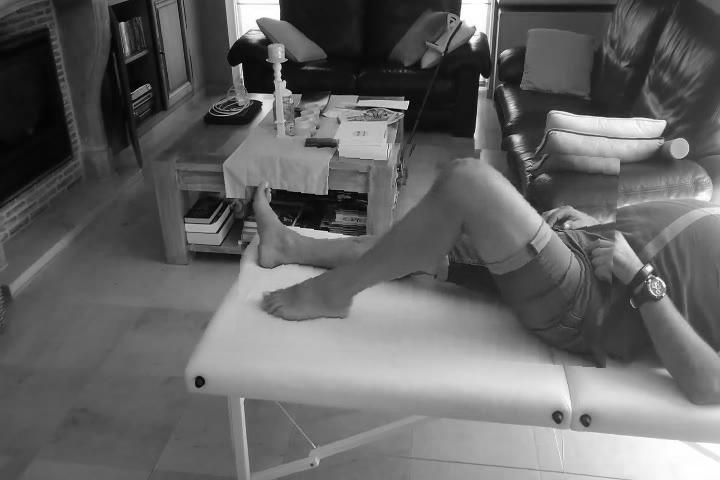lower_body: (240, 140, 618, 363)
